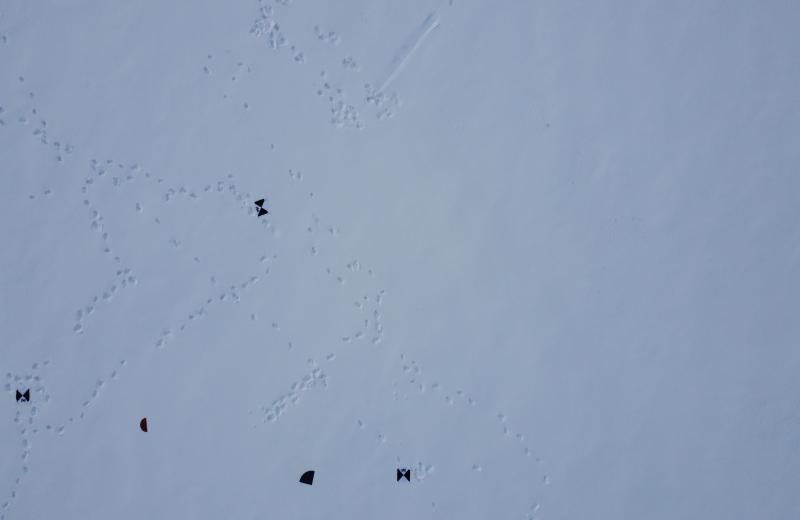Quarter Circle: (299, 469, 315, 486)
Semi Circle: (139, 417, 149, 433)
